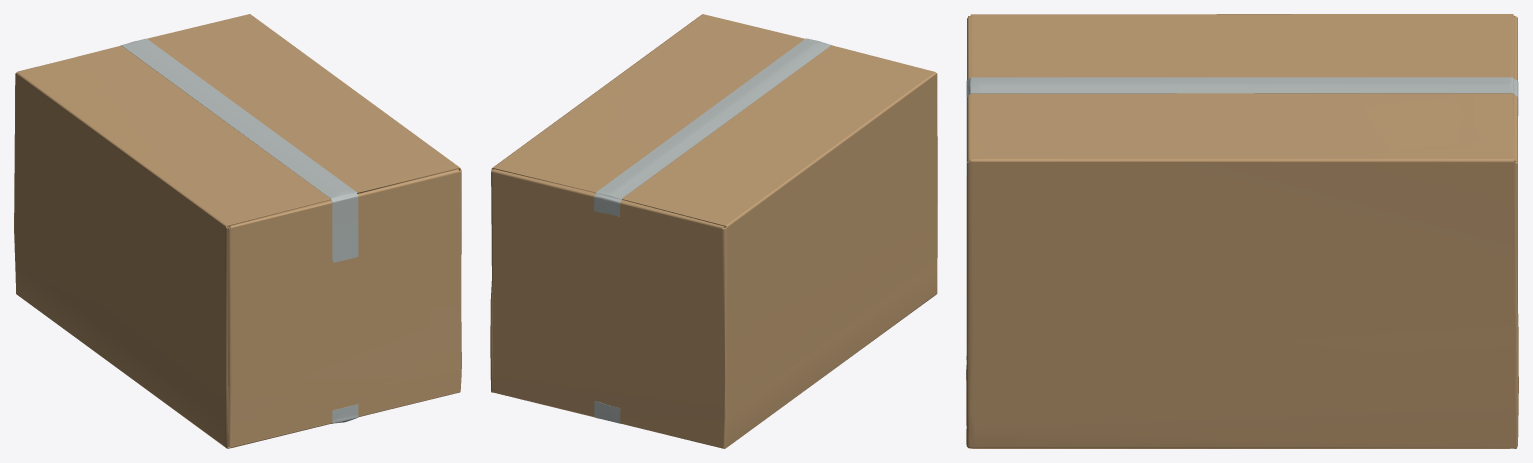
The model's file is box_printer_a01.glb.
The picture shows the model from 3 angles, left to right: view 1: azimuth 30°, elevation 25°; view 2: azimuth 150°, elevation 25°; view 3: azimuth 270°, elevation 25°; orthographic projection. The views are drawn at different scales.
Size of the model in its own units: 0.2767 by 0.256 by 0.4345.
